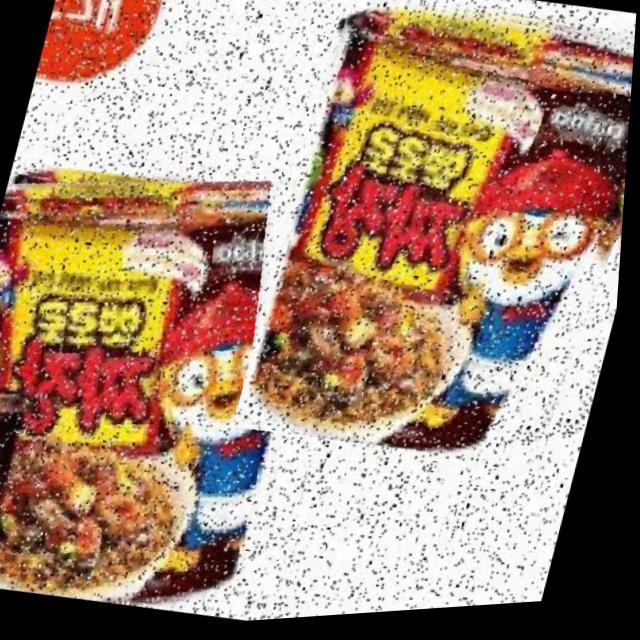Miscellaneous: (236, 0, 640, 497), (0, 129, 386, 640)
